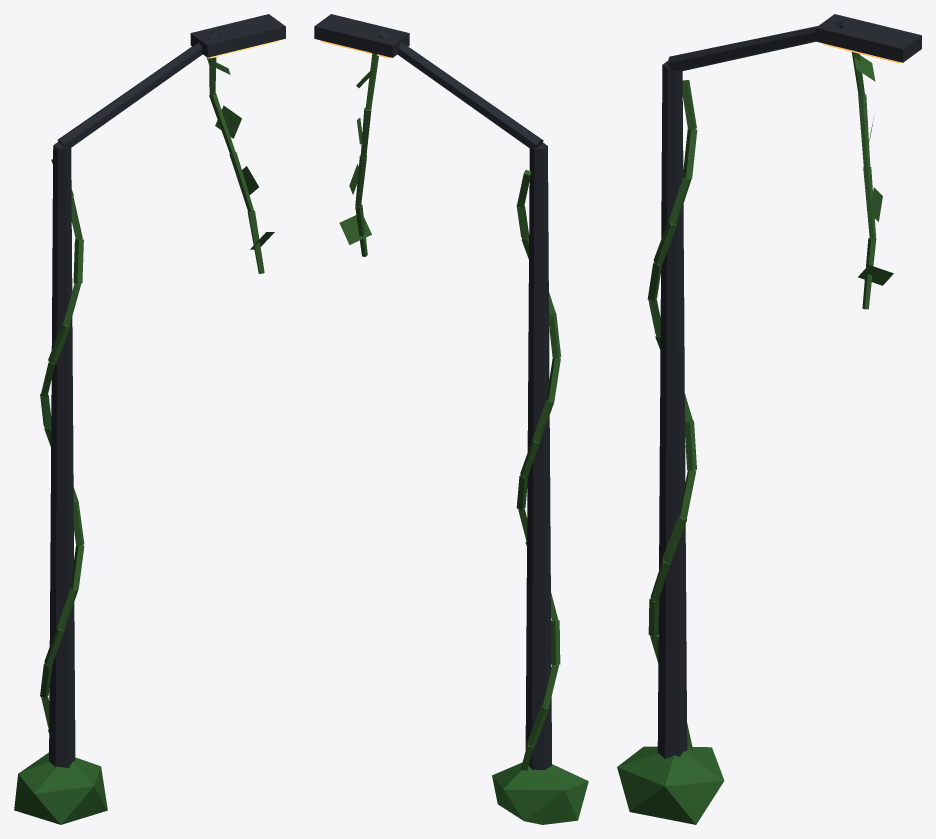
The model's file is lamp.glb.
3 renders of one model, left to right at view 1: azimuth 30°, elevation 25°; view 2: azimuth 150°, elevation 25°; view 3: azimuth 330°, elevation 25°, orthographic. The views are drawn at different scales.
Visible parts, largest first — view 1: Lamp; view 2: Lamp; view 3: Lamp.
Part boxes in pixels (x1,y1,x2,y2): Lamp: [14, 14, 285, 824]; Lamp: [314, 14, 588, 824]; Lamp: [617, 14, 921, 824].
Size of the model in its own units: 2.65 by 7.35 by 0.7619.
